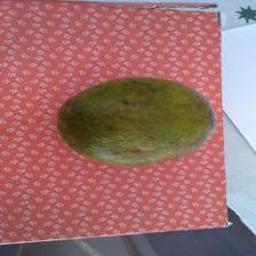Orange Semifresh: (42, 62, 220, 168)
